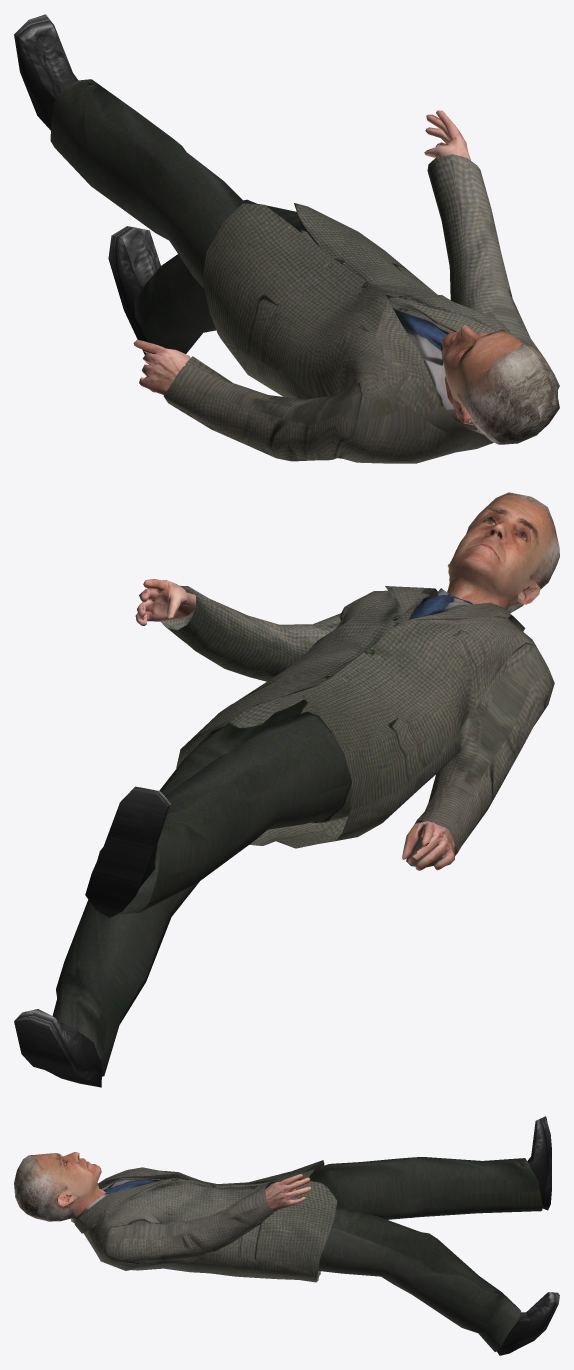
3 views of the same model, one above another, from view 1: azimuth 30°, elevation 25°; view 2: azimuth 150°, elevation 25°; view 3: azimuth 270°, elevation 25° (orthographic). The views are drawn at different scales.
Parts seen in each view (by area): view 1: Business_M; view 2: Business_M; view 3: Business_M.
Boxes of the visible parts, x1=… form: Business_M: x1=14, y1=14, x2=559, y2=463; Business_M: x1=14, y1=492, x2=559, y2=1087; Business_M: x1=14, y1=1116, x2=559, y2=1355.
Bounding box in the file's own units: 28.41 × 29.81 × 70.
